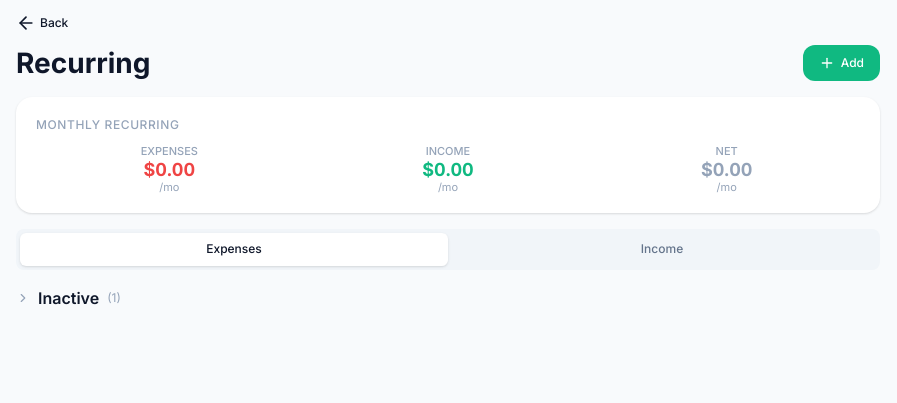
Test: SubscriptionsPage › inactive list expands when header is clicked
Click the button with test id "inactive-section-header": point(69, 298) [16, 286, 880, 318]
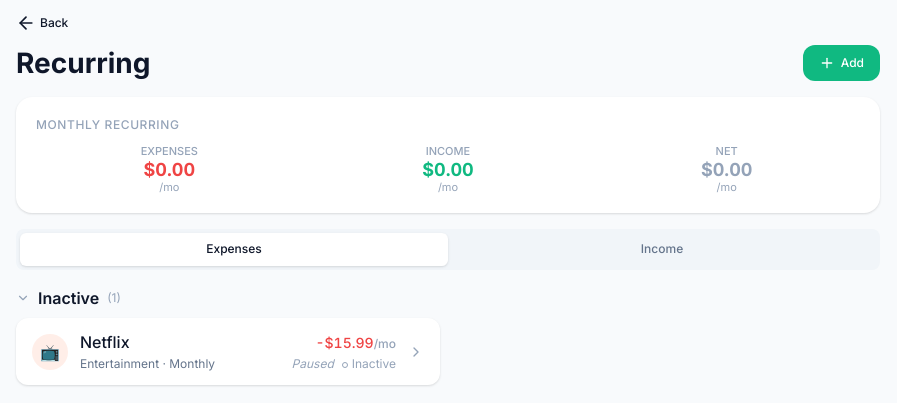
Expected: the element with test id "inactive-list" is shown, [16, 318, 440, 385]
